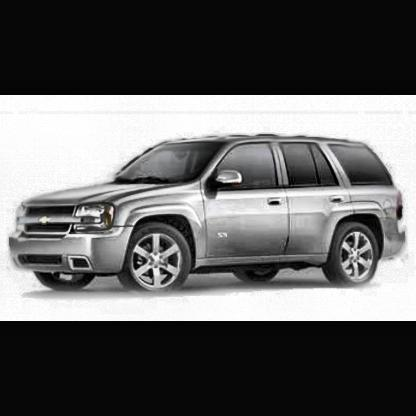Chevrolet TrailBlazer SS 2009: (9, 131, 413, 298)
